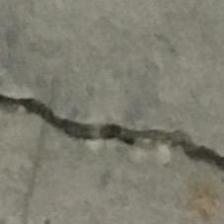Crack: (0, 82, 224, 178)
